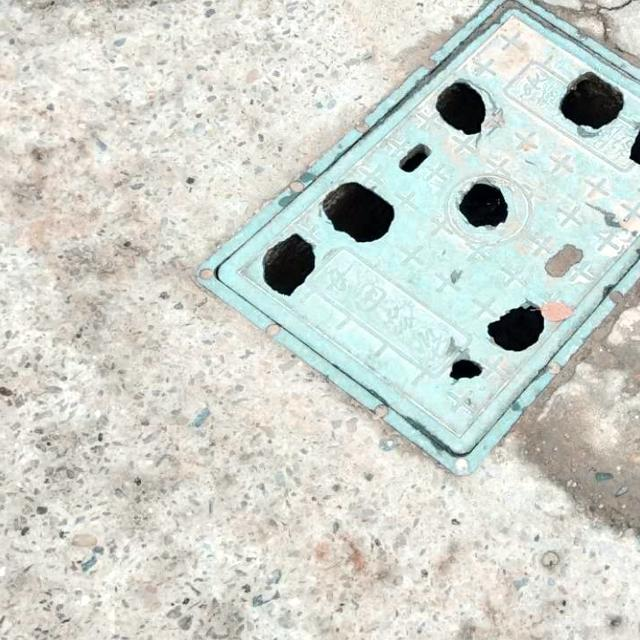broke: (196, 0, 640, 474)
